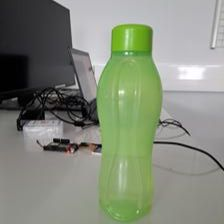bottle: (94, 22, 164, 220)
